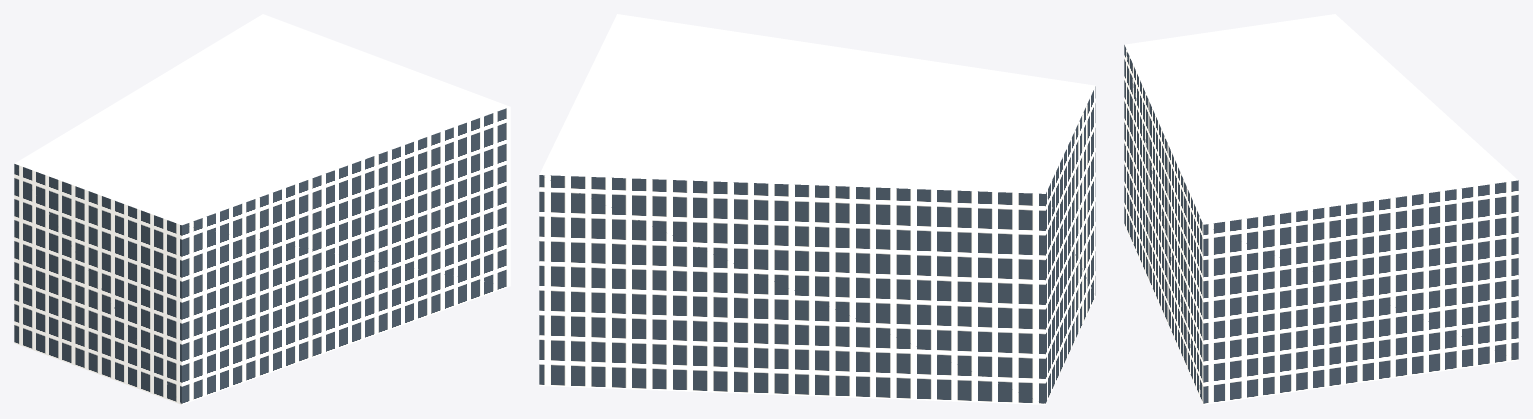
File: landmark-heydar-aliyev-palace.glb
3 views of the same model, side by side, from view 1: azimuth 30°, elevation 25°; view 2: azimuth 150°, elevation 25°; view 3: azimuth 270°, elevation 25° (orthographic). The views are drawn at different scales.
Parts seen in each view (by area): view 1: heydar-aliyev-palace; view 2: heydar-aliyev-palace; view 3: heydar-aliyev-palace.
Boxes of the visible parts, box(x1,y1,x2,y2) form: heydar-aliyev-palace: box(14, 14, 510, 404); heydar-aliyev-palace: box(539, 14, 1095, 404); heydar-aliyev-palace: box(1124, 14, 1518, 404).
Bounding box in the file's own units: 85.82 × 34.21 × 67.8.
Materials: 2 (1 with a texture image).
